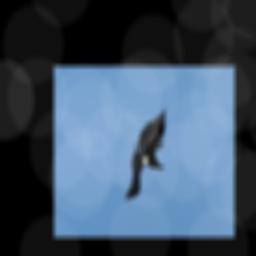Crow: (103, 108, 185, 202)
